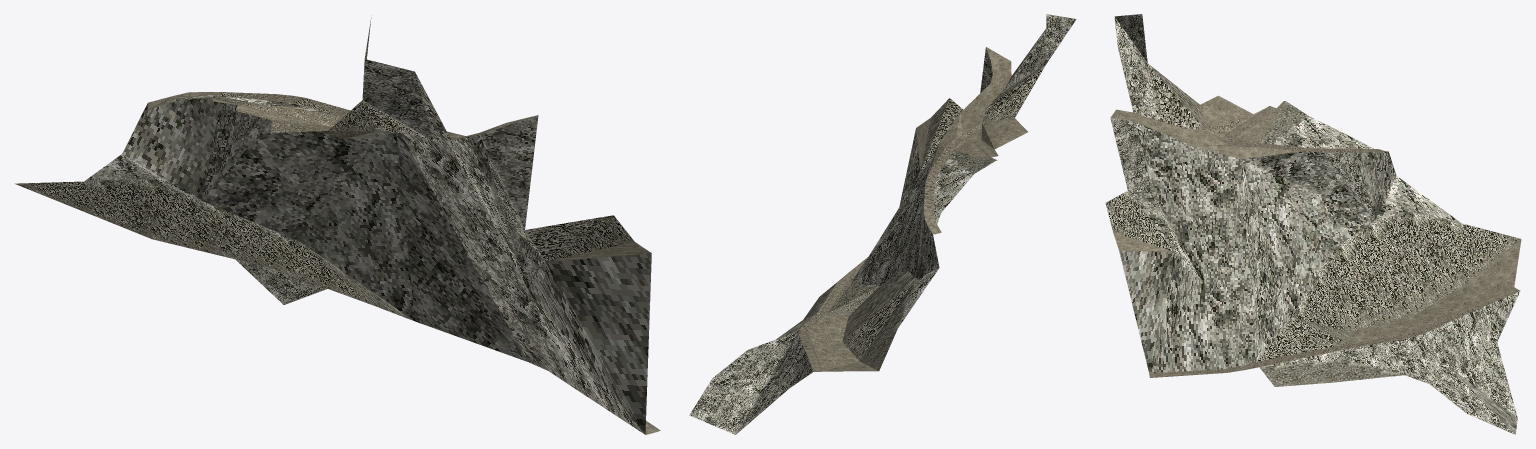
Rendered from lod_cs_landbit_12.obj.
3 renders of one model, left to right at view 1: azimuth 30°, elevation 25°; view 2: azimuth 150°, elevation 25°; view 3: azimuth 270°, elevation 25°, orthographic. The views are drawn at different scales.
Visible parts, largest first — view 1: lod_cs_landbit_12; view 2: lod_cs_landbit_12; view 3: lod_cs_landbit_12.
Boxes of the visible parts, x1,y1,x2,y2 form: lod_cs_landbit_12: (15,15,660,434); lod_cs_landbit_12: (689,14,1076,434); lod_cs_landbit_12: (1105,14,1521,434).
Bounding box in the file's own units: 143 × 222 × 248.
Materials: 4 (4 with a texture image).
